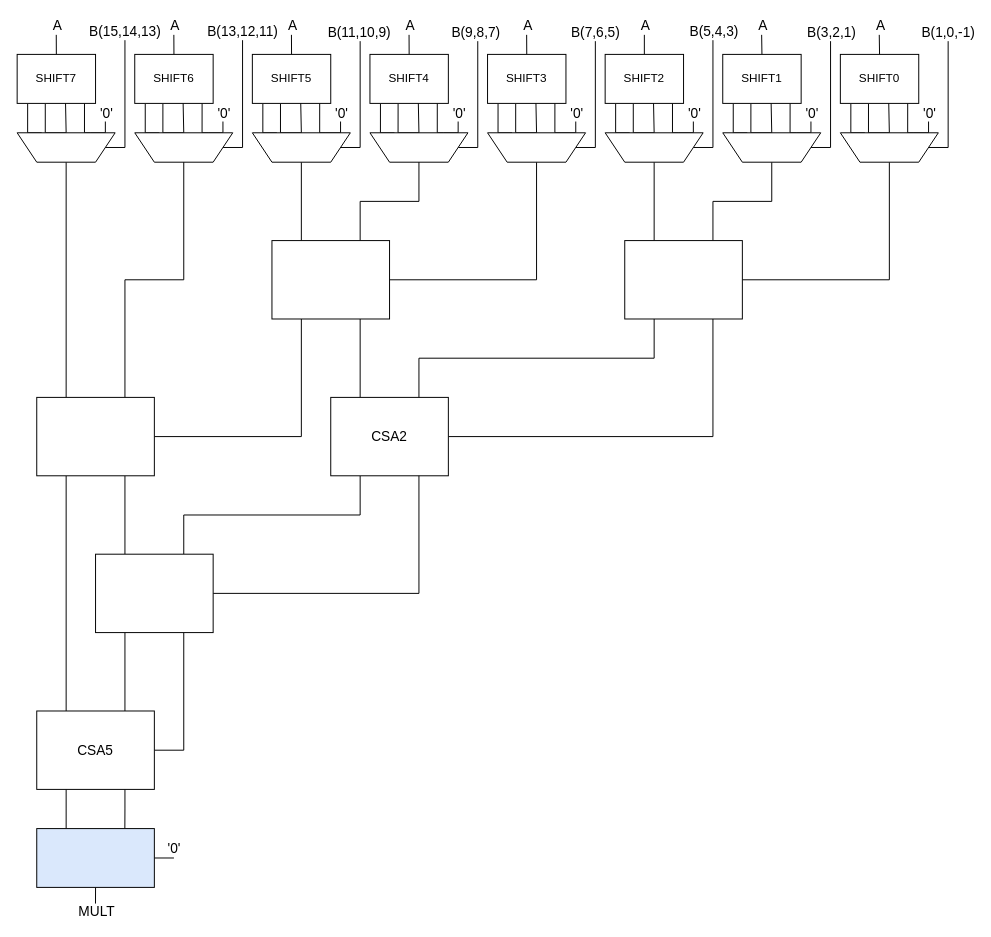
The diagram is 991 pixels wide and 937 high, and some of its shapes have lost their labels. The shapes that lost their labels are listed below. From the top down, each one's box as (x1, y1, x2, y2) in pixels, then its label:
(271, 240, 390, 319): CSA1
(624, 240, 742, 319): CSA0
(36, 396, 154, 476): CSA3
(95, 553, 213, 633): CSA4
(36, 828, 154, 887): ADD/SUB
